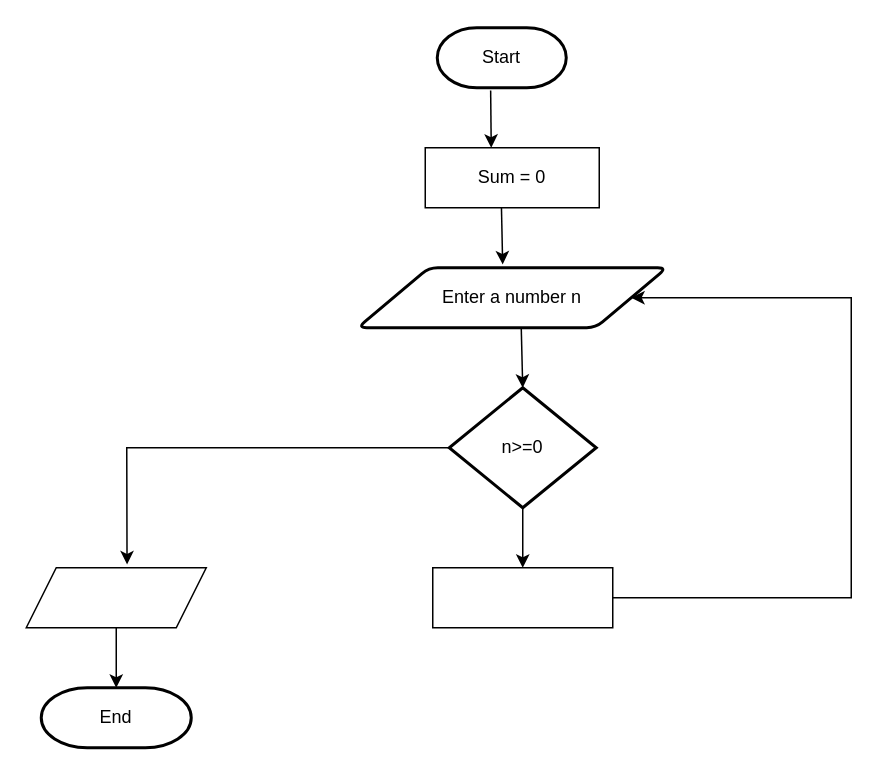
The diagram is 890 pixels wide and 774 high, and some of its shapes have lost their labels. Each missing label, with the centre of its shape:
Print Sum: (x=115, y=597)
Sum = Sum + n: (x=522, y=597)
